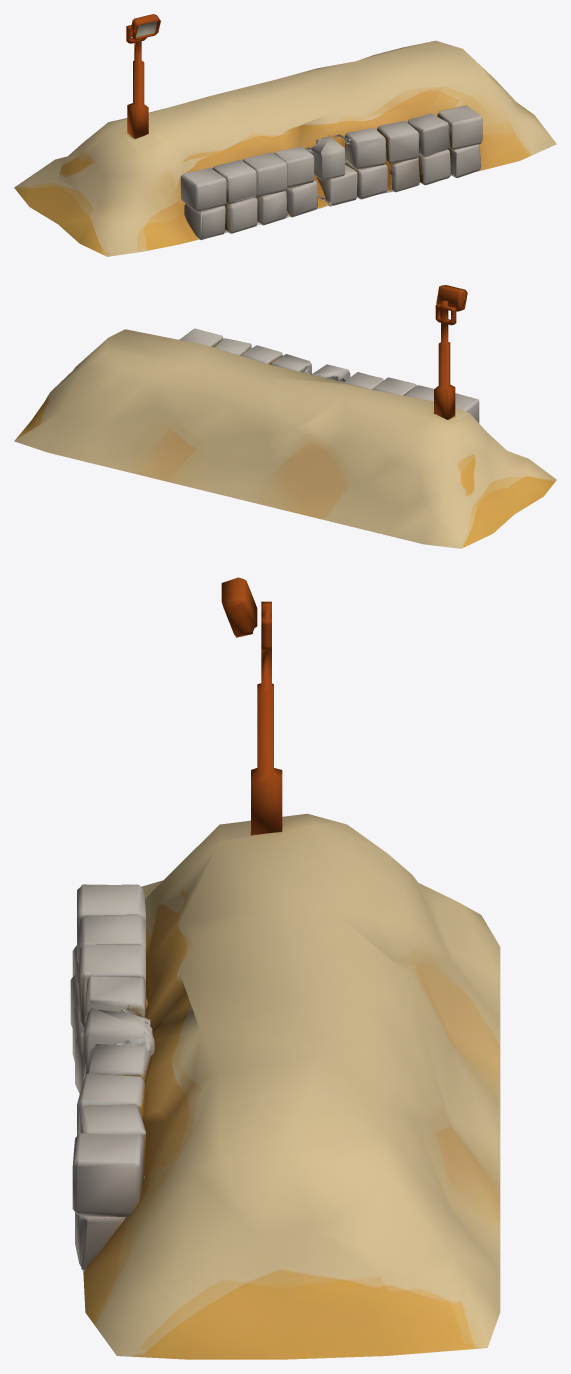
Rendered from original_glb.glb.
3 renders of one model, top to bottom at view 1: azimuth 30°, elevation 25°; view 2: azimuth 150°, elevation 25°; view 3: azimuth 270°, elevation 25°, orthographic. The views are drawn at different scales.
Parts seen in each view (by area): view 1: Perimeter Blast Berm; view 2: Perimeter Blast Berm; view 3: Perimeter Blast Berm.
Part boxes in pixels (x1,y1,x2,y2): Perimeter Blast Berm: (14, 14, 556, 256); Perimeter Blast Berm: (14, 285, 556, 548); Perimeter Blast Berm: (70, 577, 500, 1359).
Size of the model in its own units: 0.998 by 0.4082 by 0.4004.
1 material, 1 textured.
